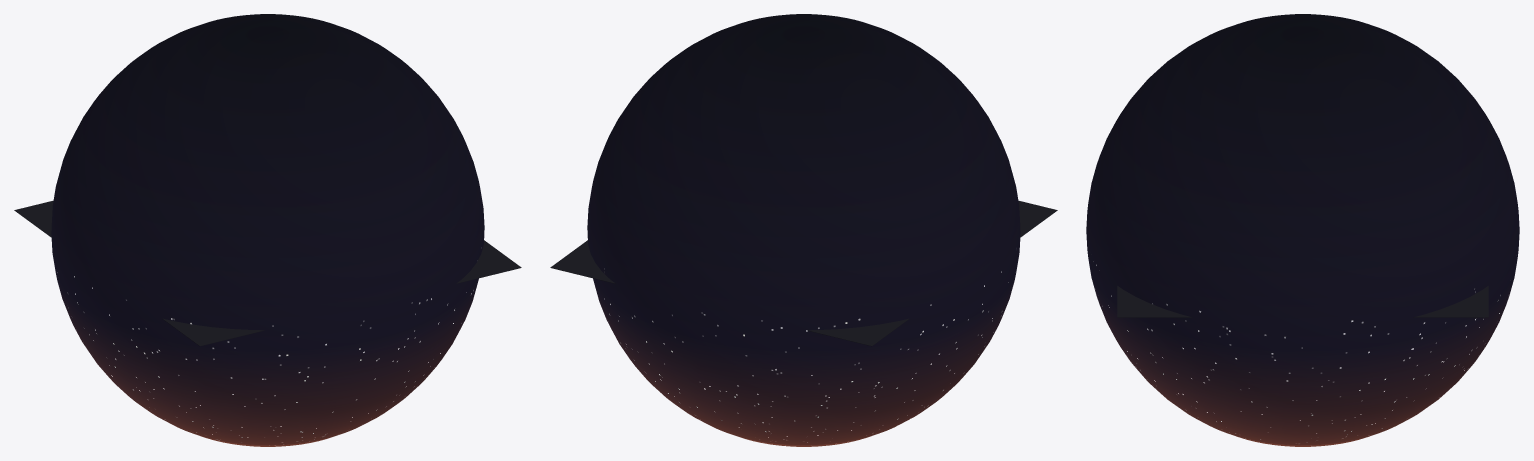
File: world.glb
The picture shows the model from 3 angles, left to right: view 1: azimuth 30°, elevation 25°; view 2: azimuth 150°, elevation 25°; view 3: azimuth 270°, elevation 25°; orthographic projection.
Parts seen in each view (by area): view 1: SkyDome, CityGround; view 2: SkyDome, CityGround; view 3: SkyDome, CityGround.
Boxes of the visible parts, x1=… form: SkyDome: x1=51, y1=14, x2=484, y2=446; CityGround: x1=14, y1=200, x2=521, y2=346; SkyDome: x1=587, y1=14, x2=1020, y2=446; CityGround: x1=550, y1=200, x2=1057, y2=346; SkyDome: x1=1086, y1=14, x2=1519, y2=446; CityGround: x1=1117, y1=286, x2=1488, y2=317.
Bounding box in the file's own units: 2800 × 2800 × 2800.
Materials: 47 (6 with a texture image).
